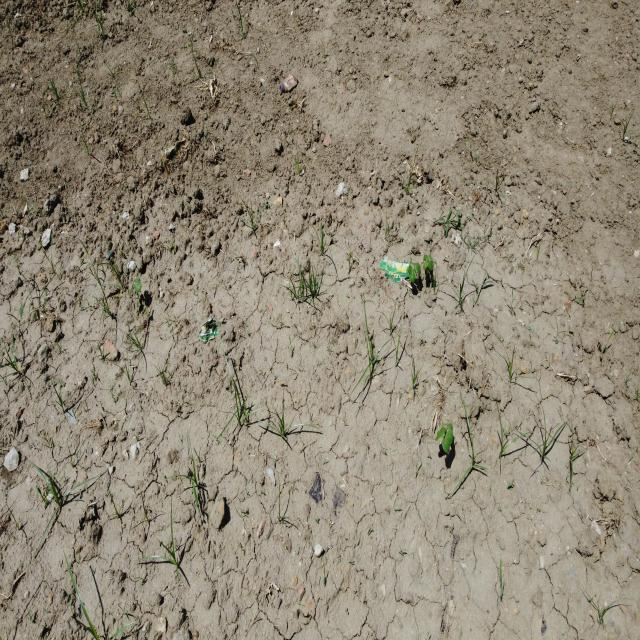seedling_s3: (442, 423, 453, 453), (435, 427, 446, 442), (411, 262, 421, 278), (408, 264, 416, 282), (134, 278, 142, 292), (428, 255, 434, 271), (423, 255, 428, 269)
